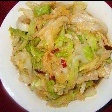juanxincairoupian: (12, 0, 112, 108)
